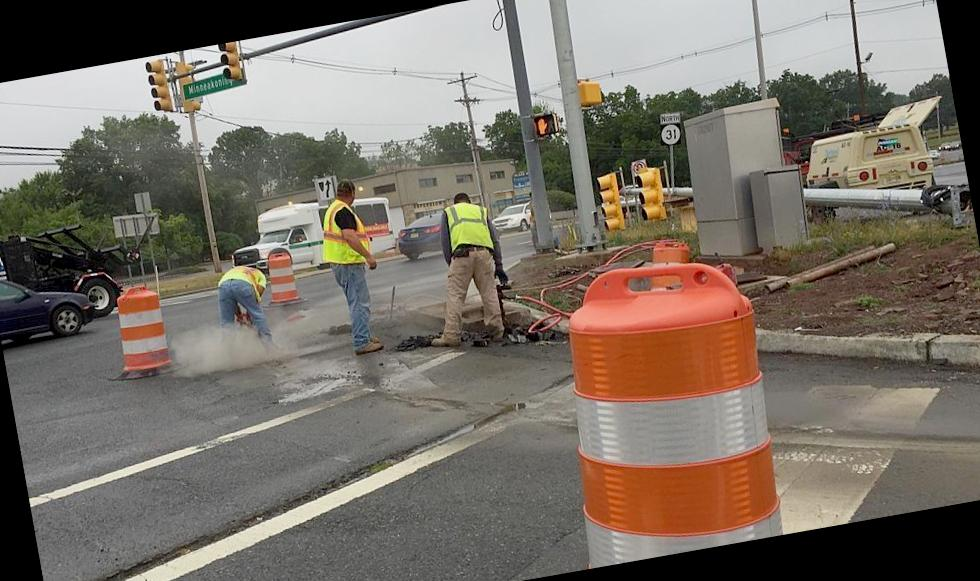person: (307, 171, 396, 361), (427, 184, 522, 350), (212, 247, 282, 354)
